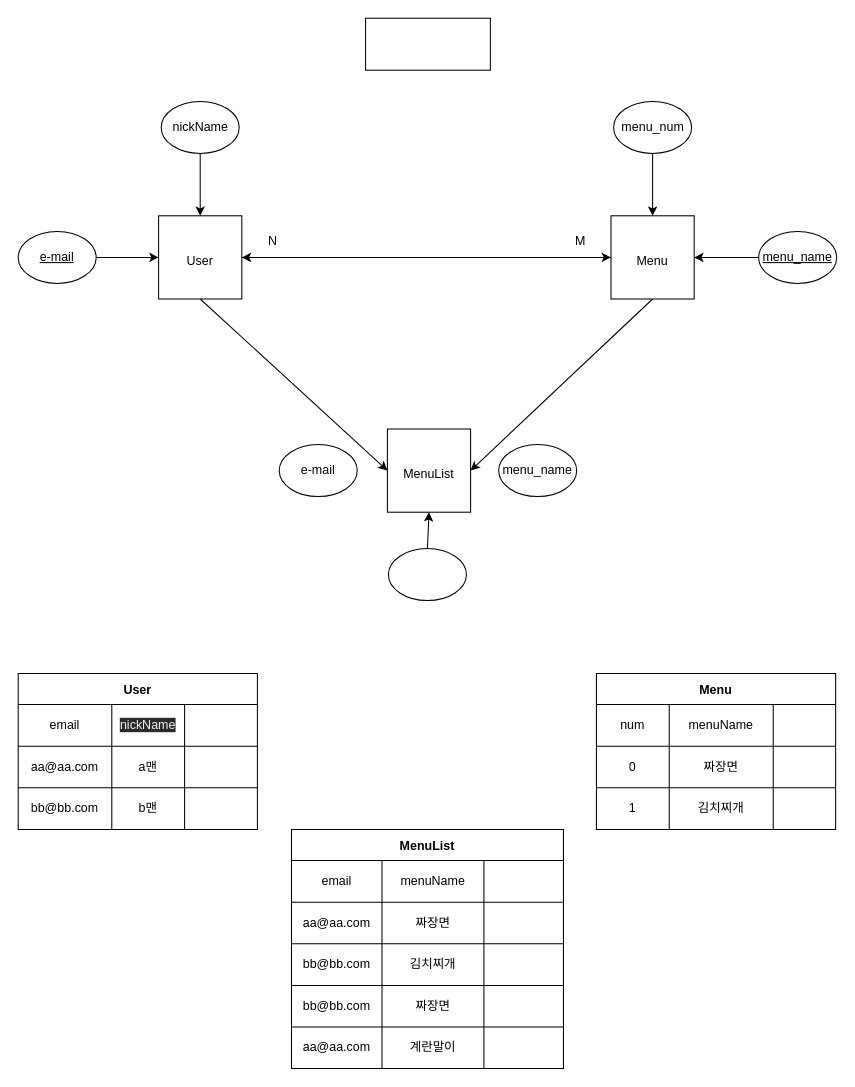
Image size: 855x1087. Some labels were removed from this diagram. Each missing label, with the box of its shape:
ERD: (365, 17, 490, 70)
menulist_id: (387, 548, 466, 601)
